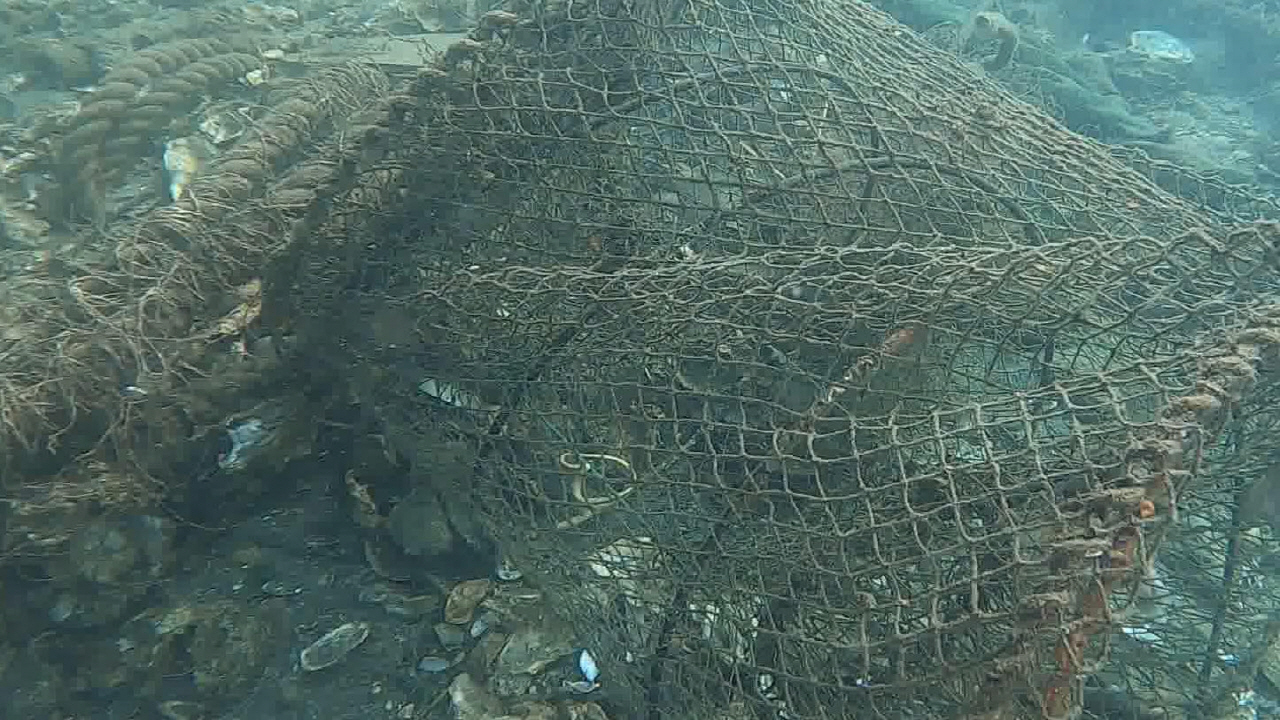bundle of ropes: (53, 33, 257, 214), (188, 92, 392, 206)
spring fish trap: (257, 1, 1280, 720)
